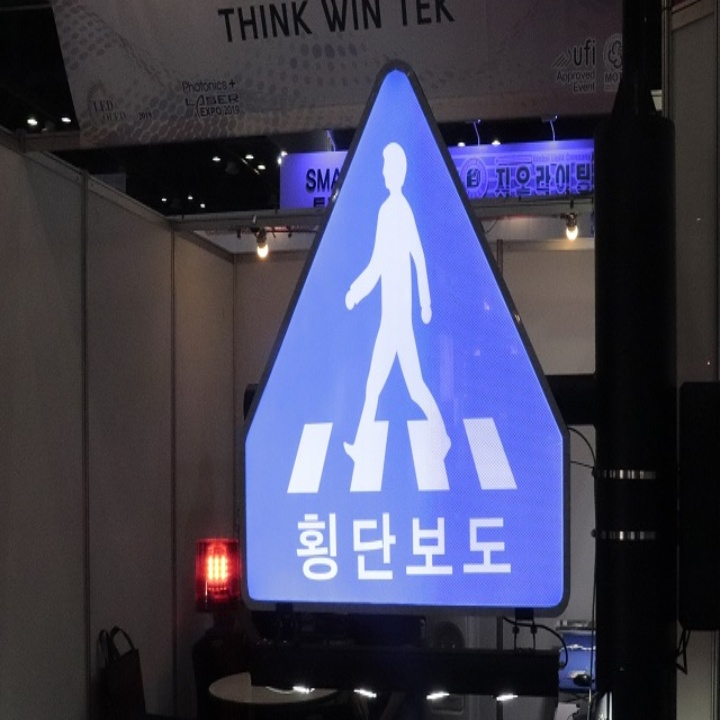cross: (333, 141, 459, 469)
